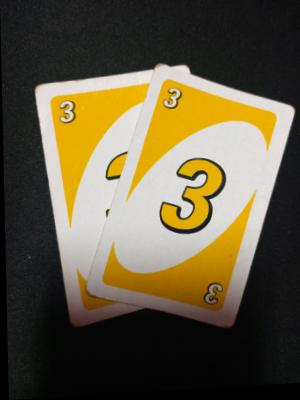num_3: (196, 273, 228, 311), (157, 84, 191, 117), (56, 96, 80, 131)
yellow: (152, 105, 250, 310), (42, 88, 137, 221)
